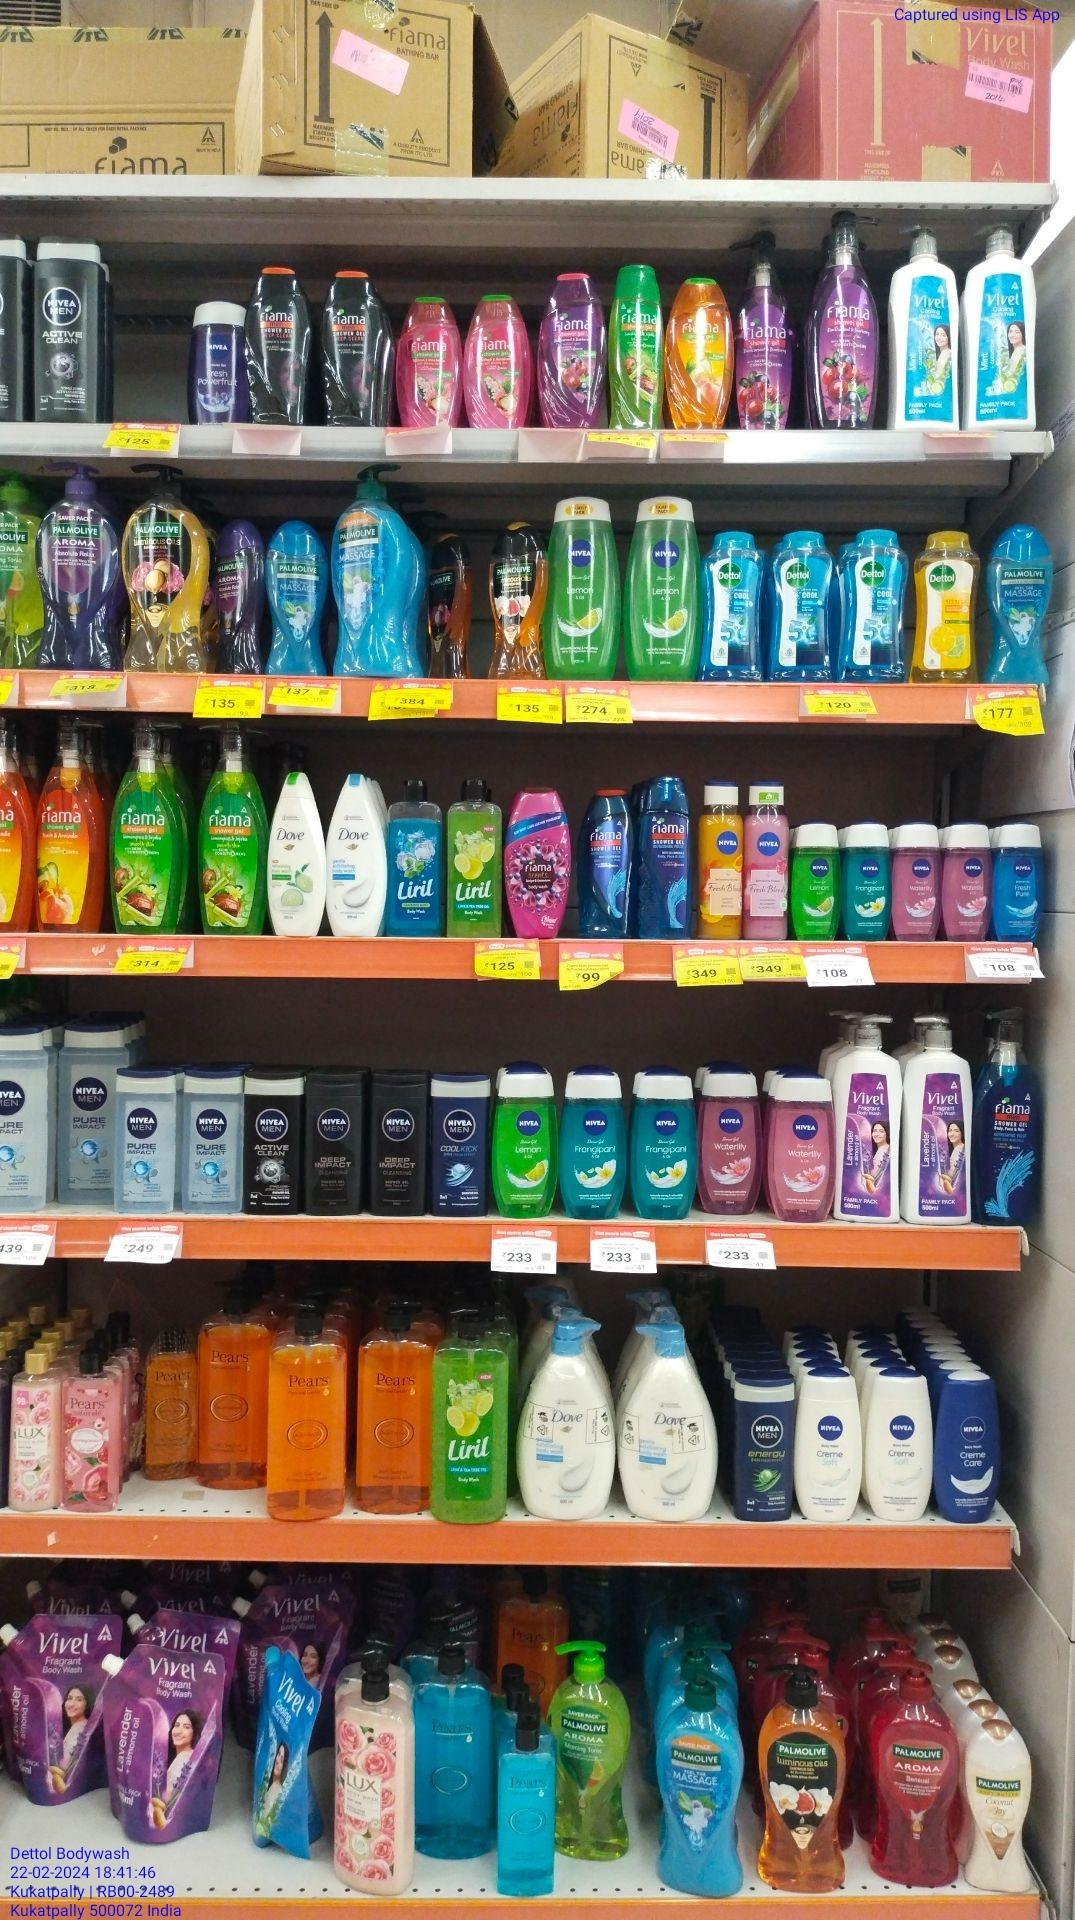Dettol_Bodywash_Cool: (769, 530, 834, 682), (849, 527, 906, 682), (704, 530, 762, 680)
Dettol_Bodywash_Refresh: (914, 533, 977, 684)
Dove_Gentle_Exfoliating_Body_Wash_250ML: (328, 774, 386, 934)
Dove_Refreshing_Body_Wash_250ML: (269, 773, 323, 935)
Fiama_Shower_Gel_Patchouli_and_Macadamia_250ML: (462, 294, 530, 427), (396, 298, 459, 430)
Fiama_Shower_Gel_Peach_and_Avocado_250ML: (665, 277, 735, 430)
Liril_Cooling_Mint_Body_Wash_250ML: (390, 778, 441, 936)
Liril_Lime_and_Tea_Tree_Oil_Body_Wash_250ML: (447, 779, 504, 938)
Nivea_Creme_Care_Body_Wash_250ML: (937, 1377, 997, 1522)
Nivea_Creme_Soft_Body_Wash_250ML: (868, 1375, 934, 1523), (795, 1374, 860, 1524)
Nivea_Shower_Gel_Frangipani_and_Oil_250ML: (562, 1071, 623, 1218), (638, 1073, 699, 1220)
Nivea_Shower_Gel_Lemon_and_Oil_250ML: (550, 496, 619, 682), (629, 497, 698, 680), (493, 1069, 557, 1212)
Nivea_Shower_Gel_Waterlily_and_Oil_250ML: (773, 1075, 835, 1220), (703, 1071, 761, 1213)
Palmolive_Aroma_Moments_Feel_The_Massage_Shower_Gel_250ML: (991, 526, 1053, 687), (269, 521, 326, 675)
Palmolive_Aroma_Relax_250ML: (216, 518, 265, 674)
Palmolive_Luminous_Oils_With_White_Orchid_Shower_Gel_250ML: (487, 524, 549, 678)
Pears_Pure_Glycerin_and_Mint_Extracts_Body_Wash_250ML: (501, 1697, 559, 1898)
